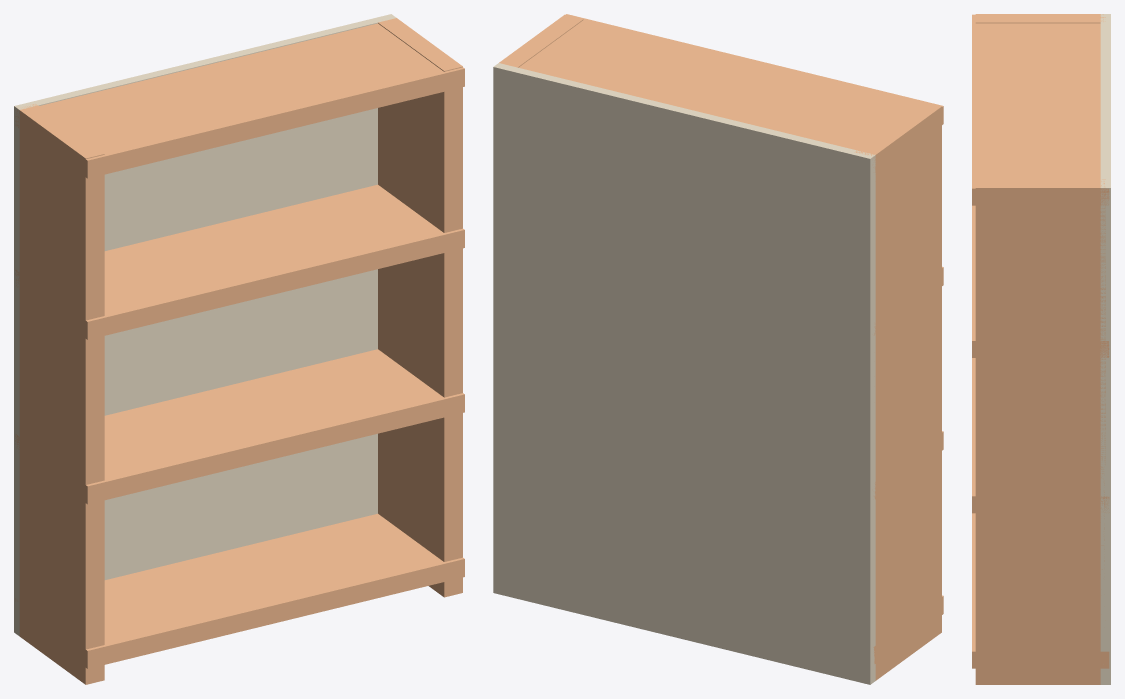
3 views of the same model, side by side, from view 1: azimuth 30°, elevation 25°; view 2: azimuth 150°, elevation 25°; view 3: azimuth 270°, elevation 25° (orthographic). The views are drawn at different scales.
Parts seen in each view (by area): view 1: Back, Side, Side.001, Shelf.003, Shelf.001, Shelf.002, Shelf; view 2: Back, Side, Shelf.003, Side.001, Shelf, Shelf.002, Shelf.001; view 3: Side.001, Shelf.003, Back, Shelf, Shelf.001, Shelf.002, Side.
Boxes of the visible parts, left/top/right/bottom form: Back: left=14, top=14, right=396, bottom=636; Side: left=19, top=104, right=104, bottom=684; Side.001: left=378, top=18, right=462, bottom=597; Shelf.003: left=15, top=23, right=464, bottom=178; Shelf.001: left=15, top=349, right=464, bottom=504; Shelf.002: left=15, top=184, right=464, bottom=339; Shelf: left=15, top=513, right=464, bottom=668; Back: left=493, top=63, right=875, bottom=684; Side: left=854, top=102, right=941, bottom=680; Shelf.003: left=518, top=14, right=943, bottom=173; Side.001: left=499, top=14, right=583, bottom=67; Shelf: left=873, top=595, right=943, bottom=663; Shelf.002: left=874, top=266, right=943, bottom=335; Shelf.001: left=874, top=431, right=943, bottom=499; Side.001: left=975, top=179, right=1105, bottom=684; Shelf.003: left=972, top=14, right=1109, bottom=205; Back: left=1100, top=14, right=1110, bottom=684; Shelf: left=972, top=513, right=1109, bottom=668; Shelf.001: left=972, top=358, right=1109, bottom=513; Shelf.002: left=972, top=205, right=1109, bottom=357; Side: left=975, top=14, right=1105, bottom=23.
Size of the model in its own units: 1.2 by 1.6 by 0.405.
1 material, 1 textured.
